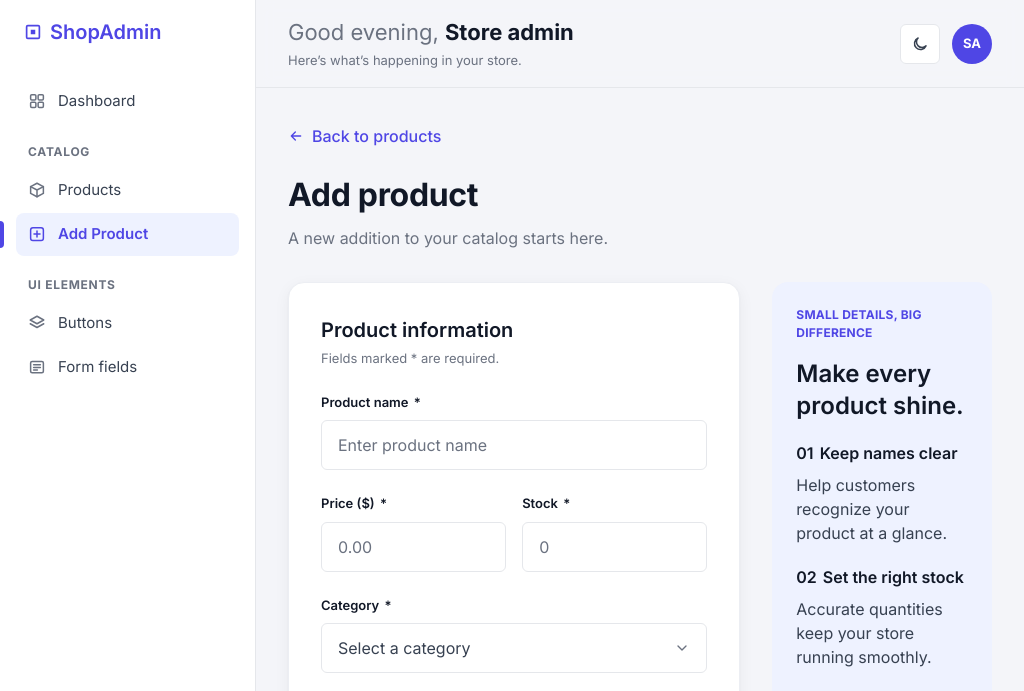
Add product › adds a product that then appears in the catalog
Type "Travel headphones" into the field labelled "Product name *" at [514, 445], box [321, 420, 707, 470]
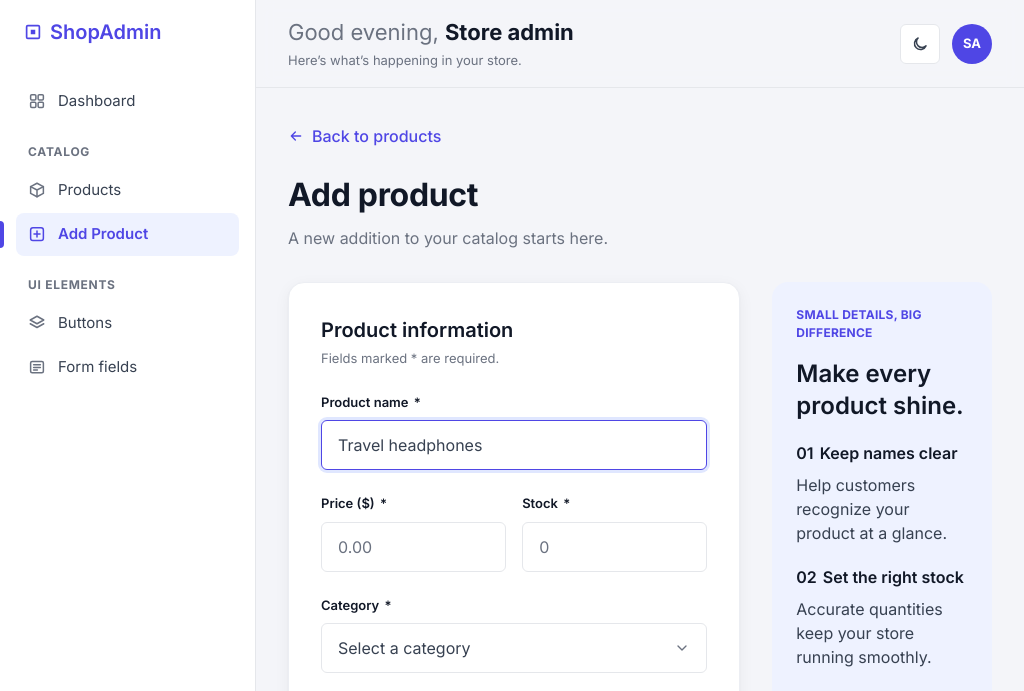
Type "159" into the number field labelled "Price ($) *" at [414, 547], box [321, 522, 506, 572]
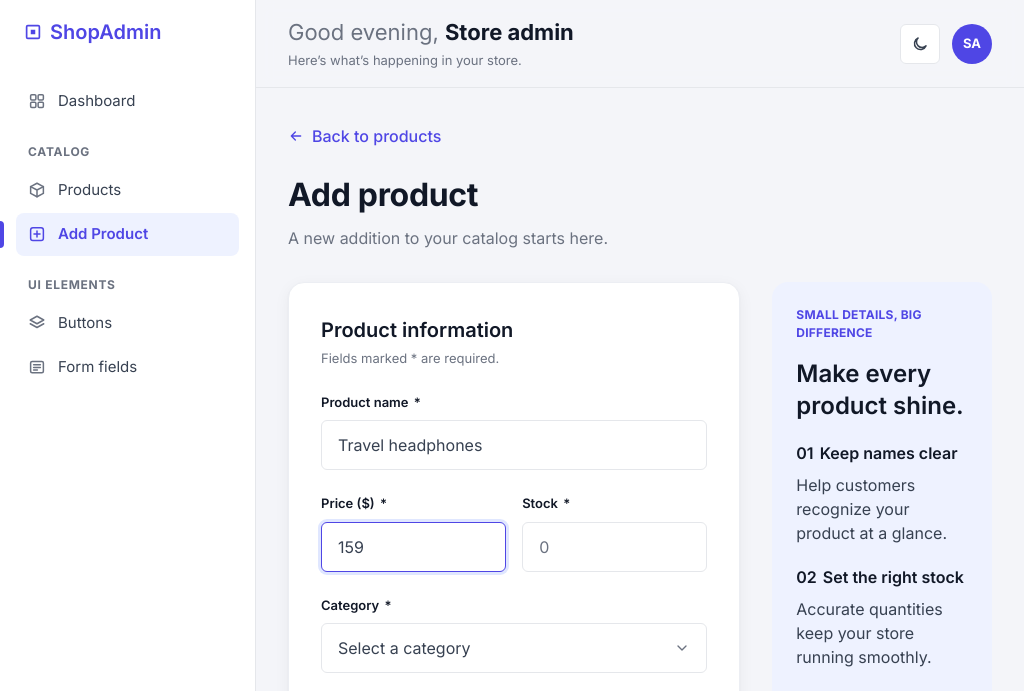
Type "16" into the number field labelled "Stock *" at [615, 547], box [522, 522, 707, 572]
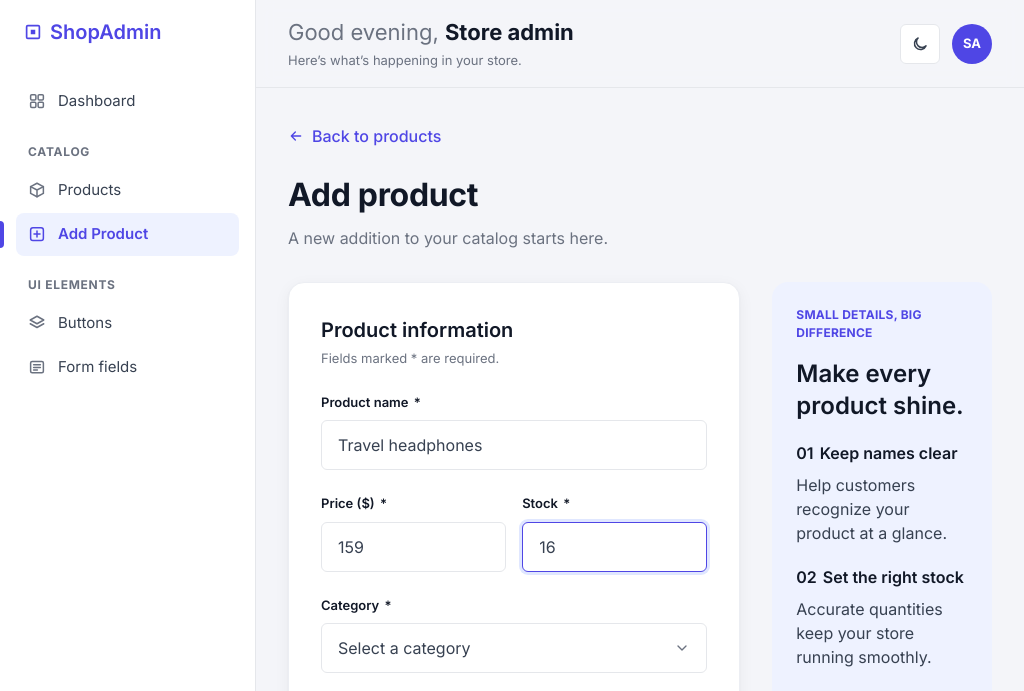
Select "Electronics" in the dropdown labelled "Category *" at [514, 648], box [321, 623, 707, 673]
(page scrolled)
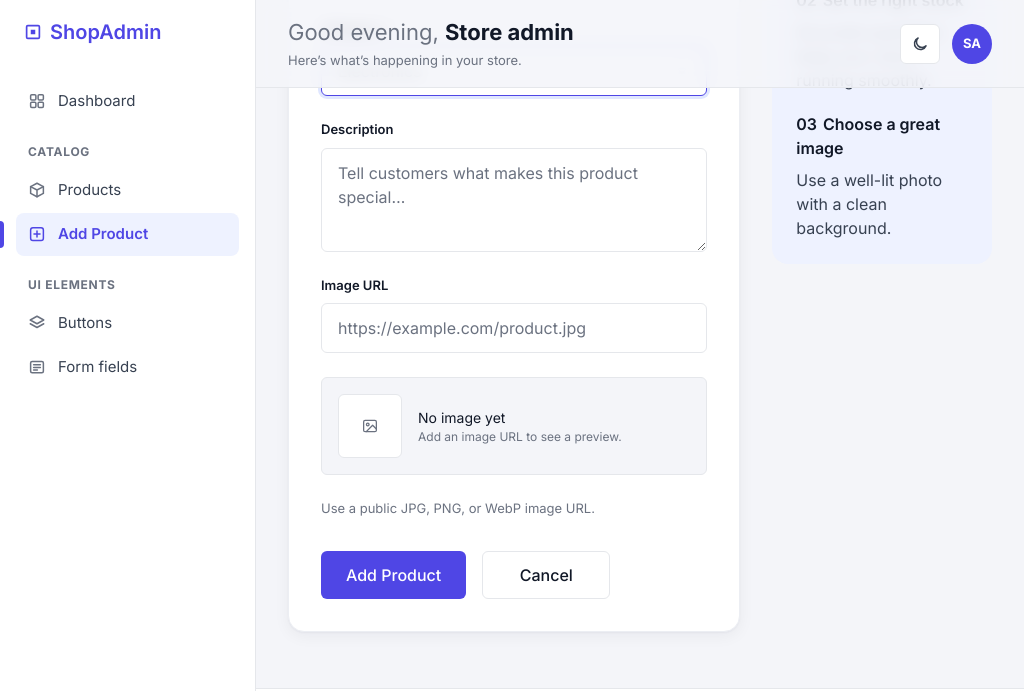
Click the button "Add Product" at [394, 575], box [321, 551, 466, 599]
(page scrolled)
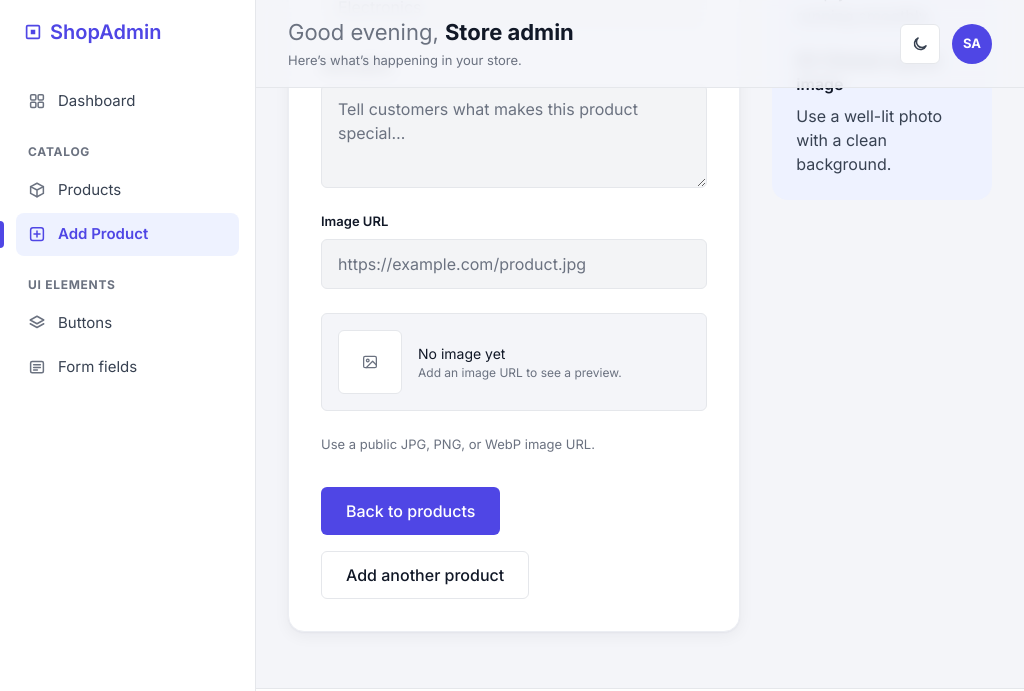
Note: The form's own button (the top "← Back to products" link is the other match).
Click the link "Back to products" at [411, 511], box [321, 487, 500, 535]
(page scrolled)
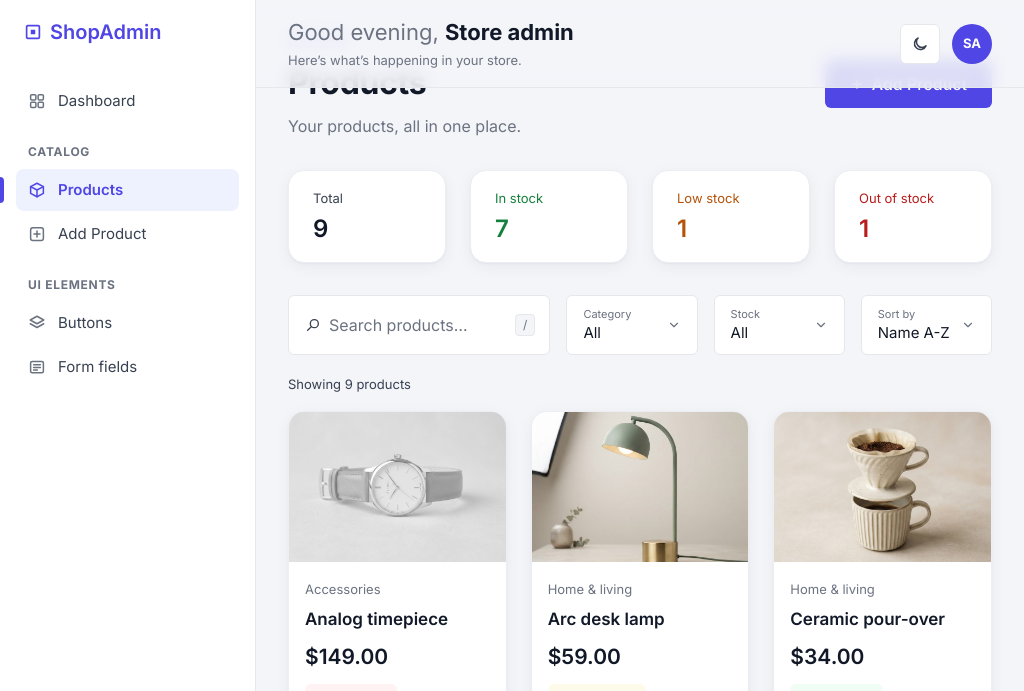
Expected: the text "Showing 9 products" is shown, [288, 376, 411, 392]
